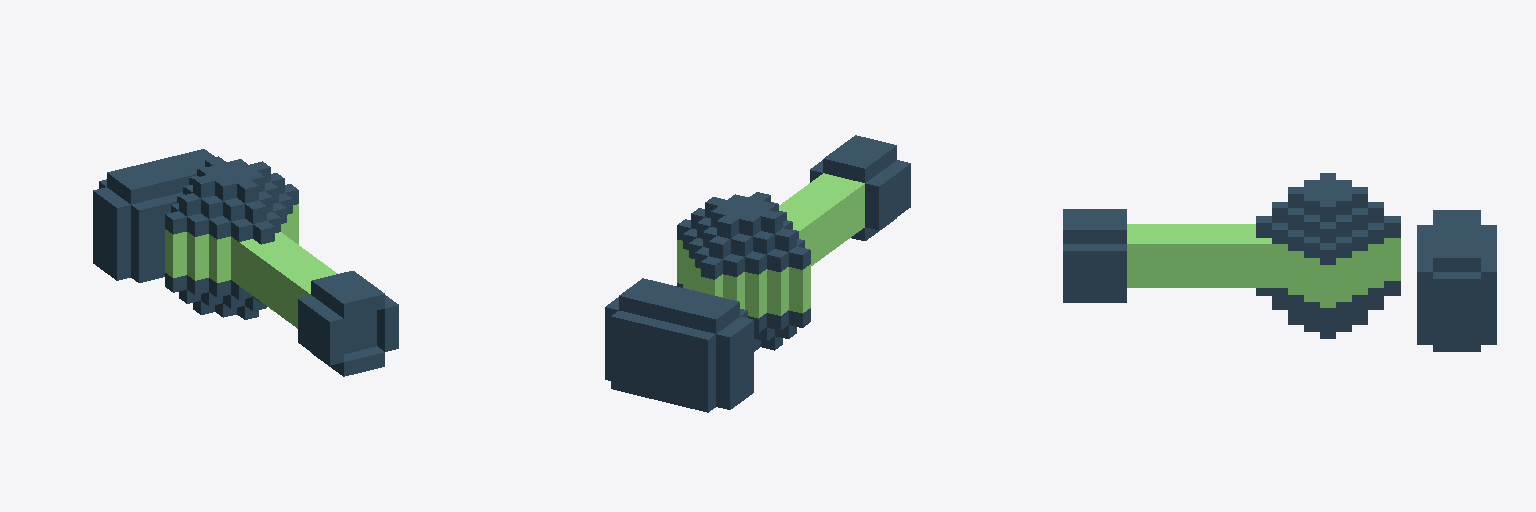
3 renders of one model, left to right at view 1: azimuth 30°, elevation 25°; view 2: azimuth 150°, elevation 25°; view 3: azimuth 270°, elevation 25°, orthographic.
Visible parts, largest first — view 1: object 1; view 2: object 1; view 3: object 1.
Part boxes in pixels (x1,y1,x2,y2): object 1: (93,149,398,376); object 1: (605,135,910,412); object 1: (1063,173,1496,351).
Size of the model in its own units: 0.9 by 0.9 by 2.7.
Materials: 1 (1 with a texture image).